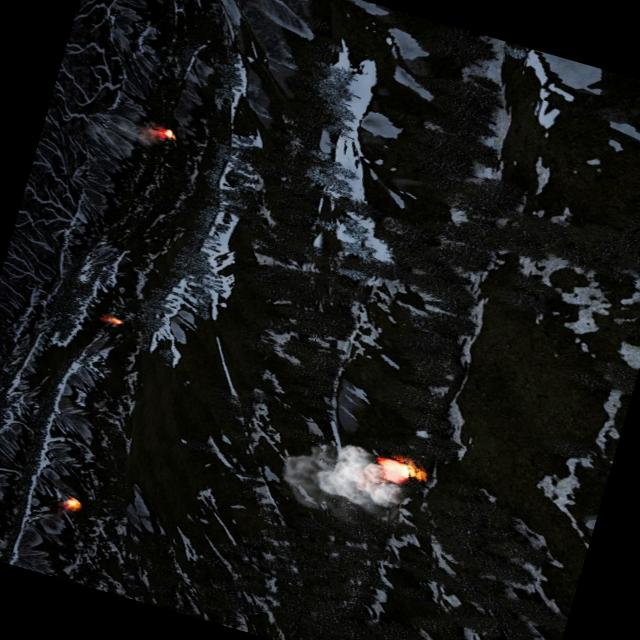fire: (373, 450, 432, 490), (154, 124, 176, 139), (100, 311, 123, 325), (65, 495, 82, 510)
smoke: (276, 424, 416, 528), (130, 117, 164, 148)
